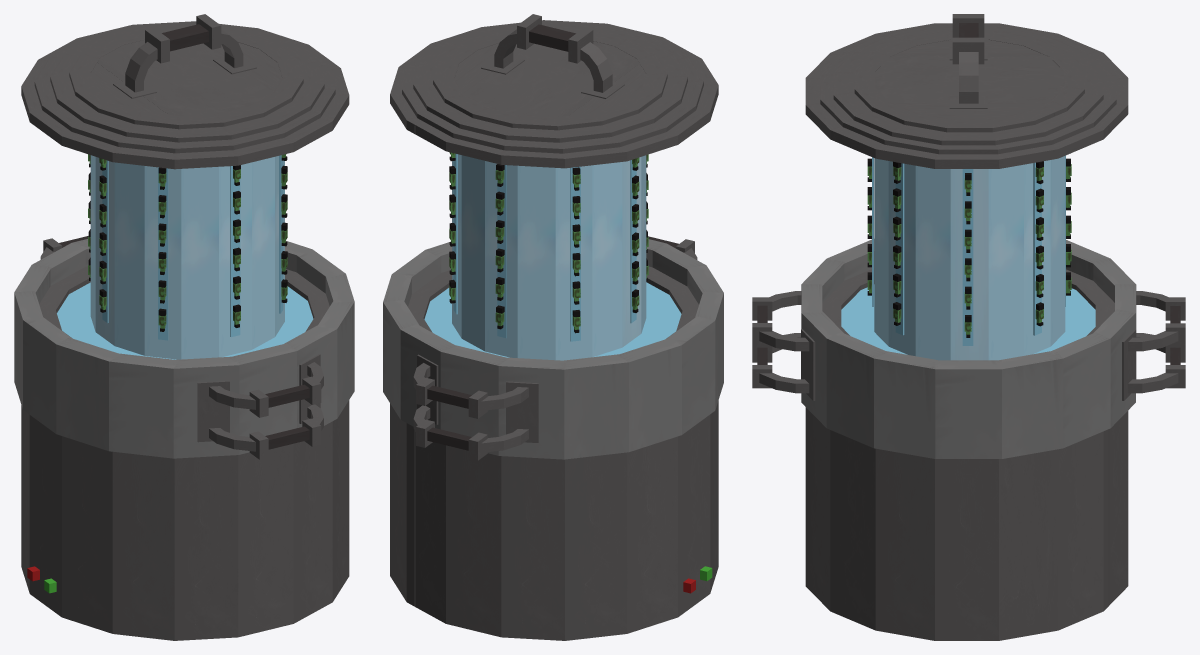
File: embryo_chamber.obj
The picture shows the model from 3 angles, left to right: view 1: azimuth 30°, elevation 25°; view 2: azimuth 150°, elevation 25°; view 3: azimuth 270°, elevation 25°; orthographic projection.
Visible parts, largest first — view 1: cube; view 2: cube; view 3: cube.
Boxes of the visible parts, box(x1,y1,x2,y2) form: cube: box(14, 14, 354, 640); cube: box(383, 14, 723, 640); cube: box(752, 14, 1185, 640).
Size of the model in its own units: 1.01 by 1.8 by 1.29.
